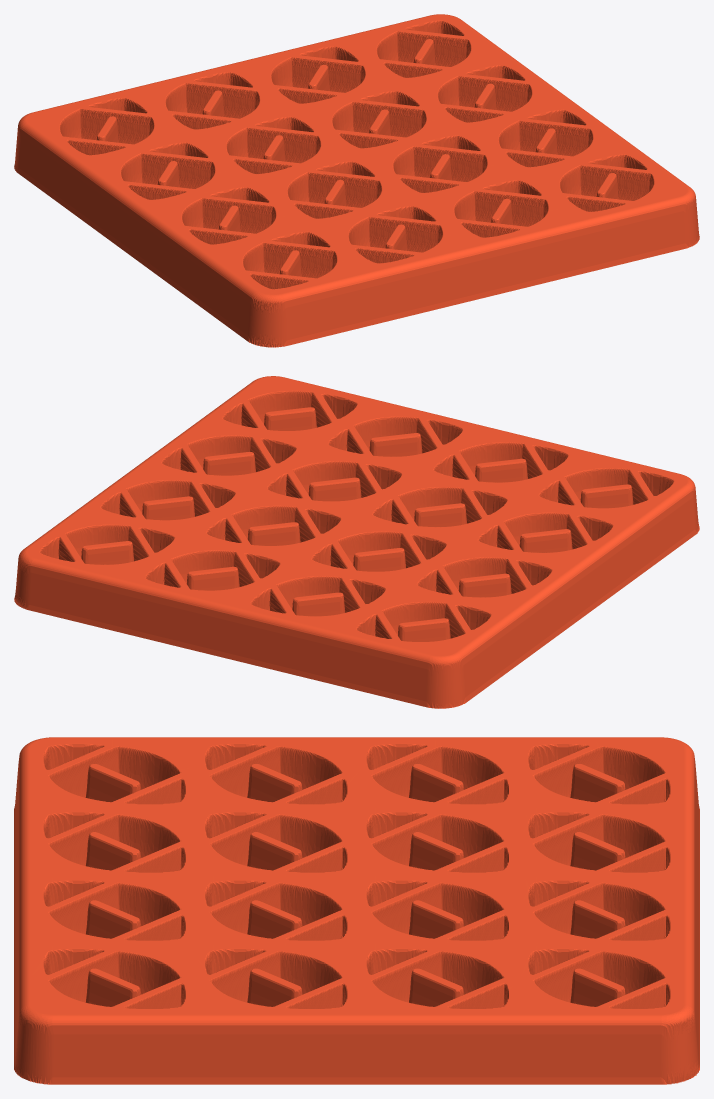
File: mold.glb
3 renders of one model, top to bottom at view 1: azimuth 30°, elevation 25°; view 2: azimuth 150°, elevation 25°; view 3: azimuth 270°, elevation 25°, orthographic. The views are drawn at different scales.
Parts seen in each view (by area): view 1: geometry_0; view 2: geometry_0; view 3: geometry_0.
Part boxes in pixels (left/top/right/bottom): geometry_0: left=14, top=14, right=699, bottom=347; geometry_0: left=14, top=376, right=699, bottom=708; geometry_0: left=14, top=737, right=699, bottom=1084.
Size of the model in its own units: 0.1569 by 0.0159 by 0.1569.
